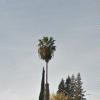Palm tree: (30, 29, 57, 100)
